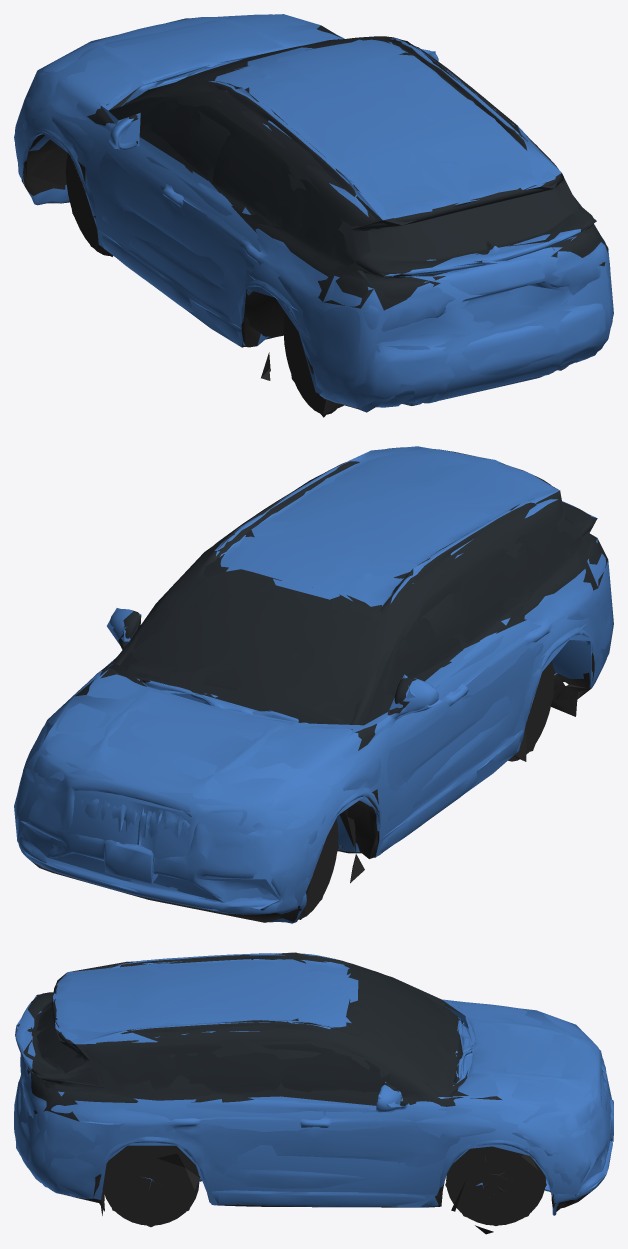
The model's file is lincoln-corsair.glb.
3 views of the same model, one above another, from view 1: azimuth 30°, elevation 25°; view 2: azimuth 150°, elevation 25°; view 3: azimuth 270°, elevation 25° (orthographic). The views are drawn at different scales.
Parts seen in each view (by area): view 1: body, far; view 2: body, far; view 3: body, far.
Part boxes in pixels (x1,y1,x2,y2): body: (15, 14, 613, 414); far: (14, 14, 613, 417); body: (15, 447, 612, 923); far: (14, 446, 613, 921); body: (14, 953, 613, 1234); far: (14, 952, 613, 1232).
Bounding box in the file's own units: 2.34 × 1.73 × 4.68.
